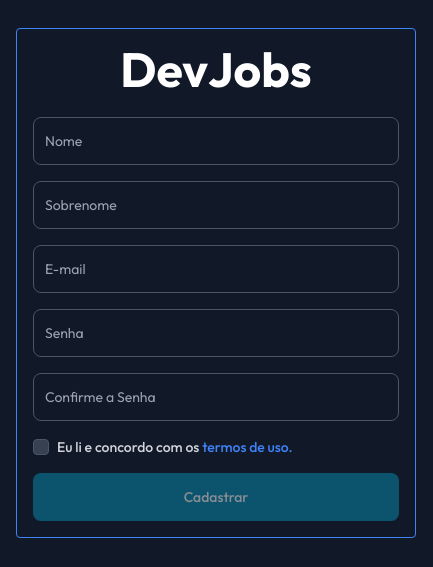
Test: Signup Page › Failed signup with differents passwords
Type "Admin" into the field with id "name-input" at (216, 141), box left=33, top=117, right=399, bottom=165
Type "Admin" into the field with id "surname-input" at (216, 205), box left=33, top=181, right=399, bottom=229
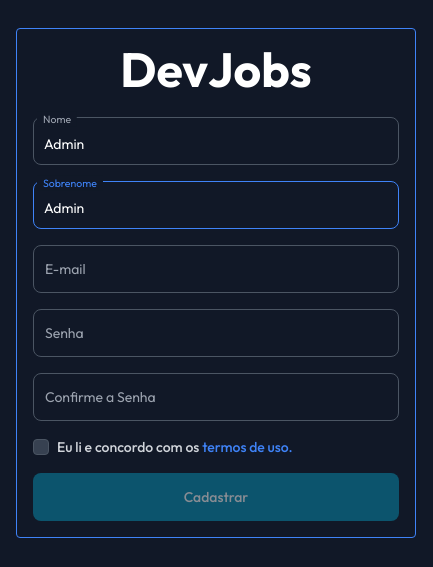
Type "admin@gmail.com" into the field with id "email-input" at (216, 269), box left=33, top=245, right=399, bottom=293
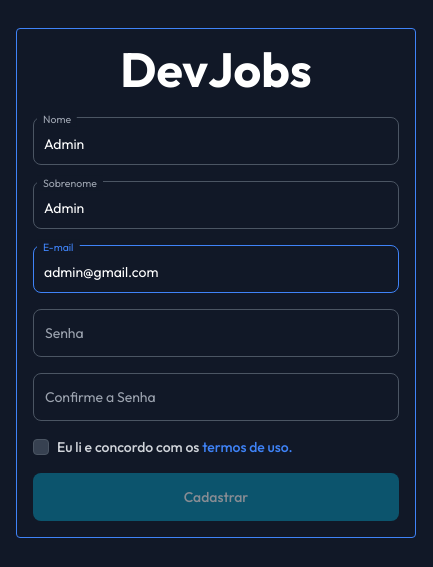
Type "123456789" into the password field labelled "Senha" at (216, 333), box left=33, top=309, right=399, bottom=357
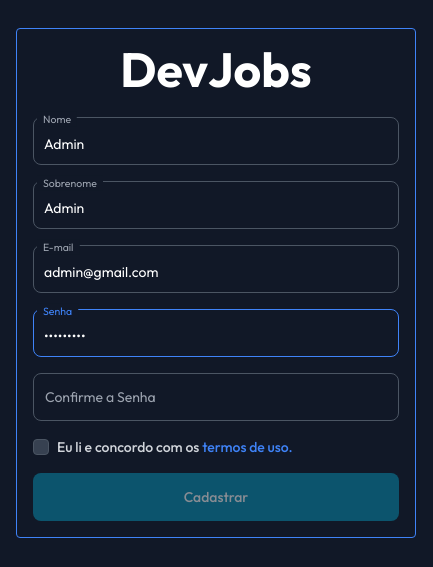
Type "1234567891011" into the password field with id "confirmPassword-input" at (216, 397), box left=33, top=373, right=399, bottom=421
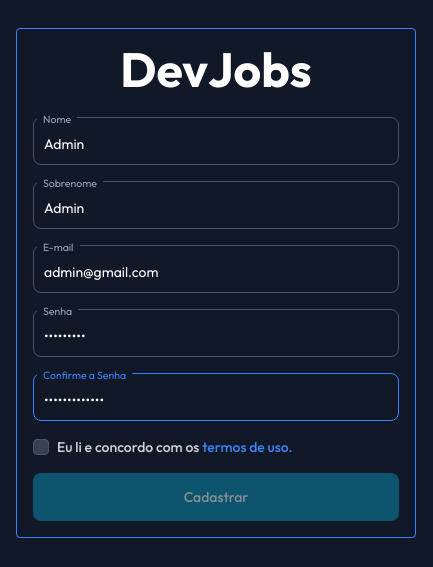
Check the checkbox with id "accept" at (41, 447), box left=33, top=439, right=49, bottom=455
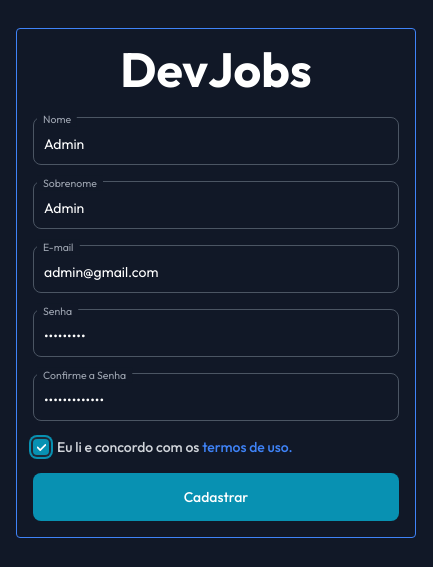
Click the submit button at (216, 497), box left=33, top=473, right=399, bottom=521
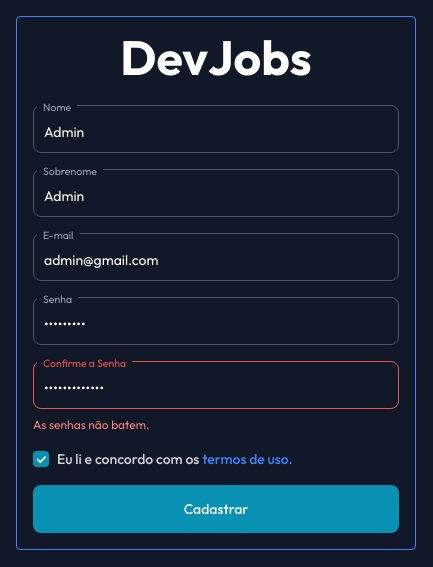
Result: the text with id "filled_error_help" reads "As senhas não batem." at left=33, top=417, right=150, bottom=432
